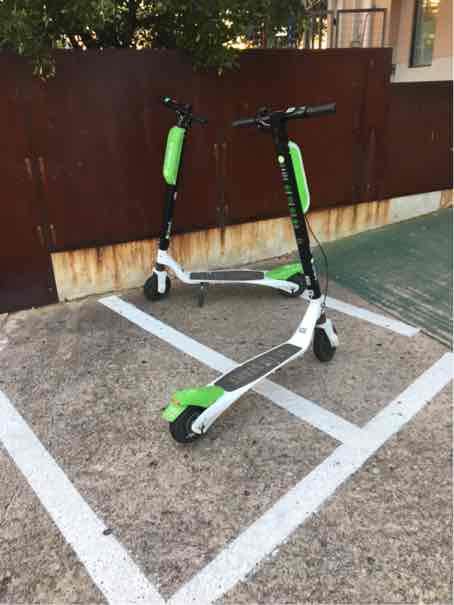scooter: (160, 96, 352, 469), (144, 84, 320, 291)
